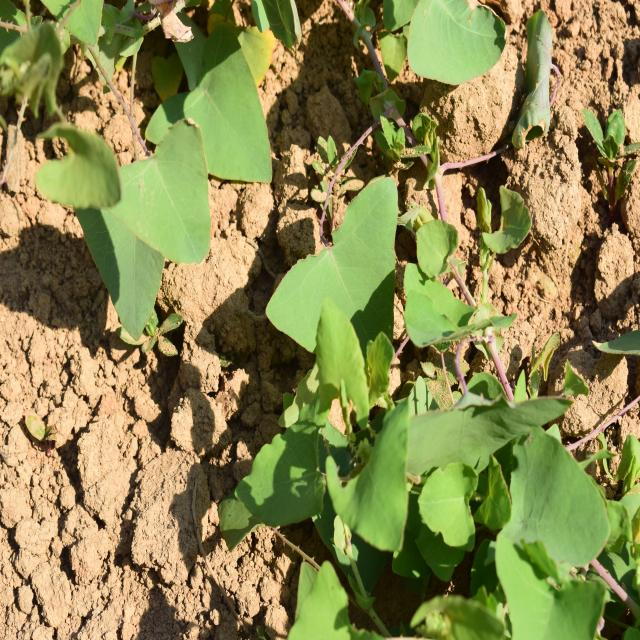Asiatic_Smartweed: (45, 22, 314, 334), (277, 174, 433, 556), (426, 403, 624, 632), (400, 0, 512, 102)
